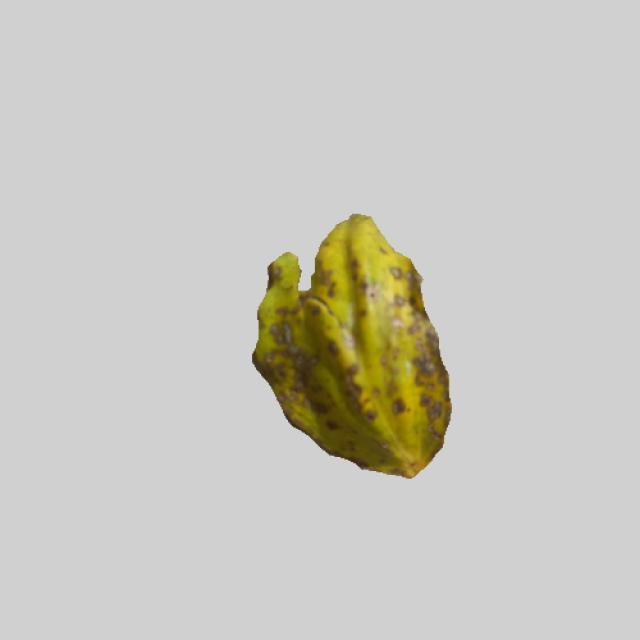yellow-mottle-virus: (251, 211, 448, 474)
